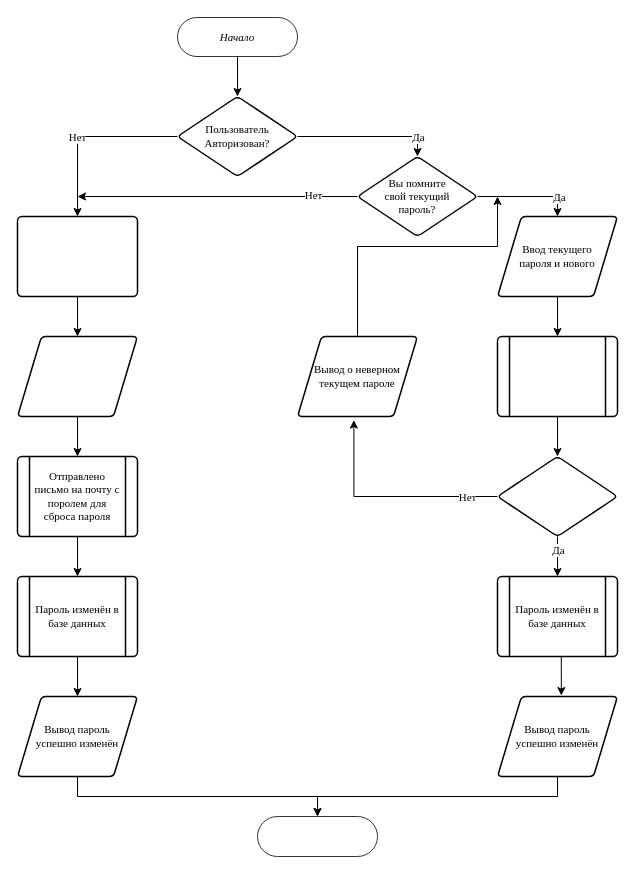
This 636x874 diagram has some shape labels left out. Each missing label, with the centre of its shape:
Введенный пароль верный?: the point at 557,496
Ввод почты: the point at 77,376
Конец: the point at 317,836
Отправлен запрос в бд на проверку текущего пароля: the point at 557,376
Сброс пароля при помощи электронной почты: the point at 77,256
